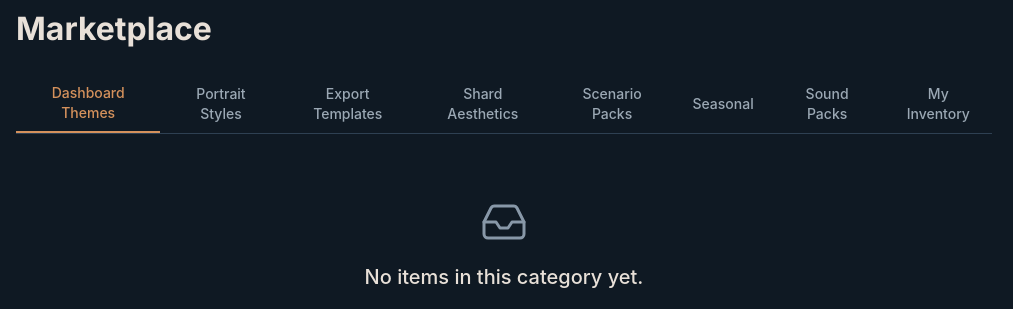
MarketplacePage — empty states › renders the empty-inventory copy on the Inventory tab when inventory() returns no rows
Click the tab "My Inventory": (938, 104) x1=884 y1=75 x2=992 y2=133
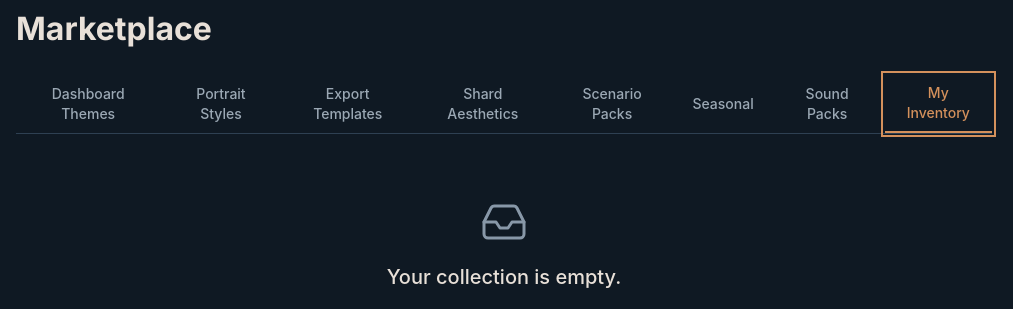
Check: the heading "Your collection is empty." is shown, box x1=387 y1=262 x2=621 y2=293
